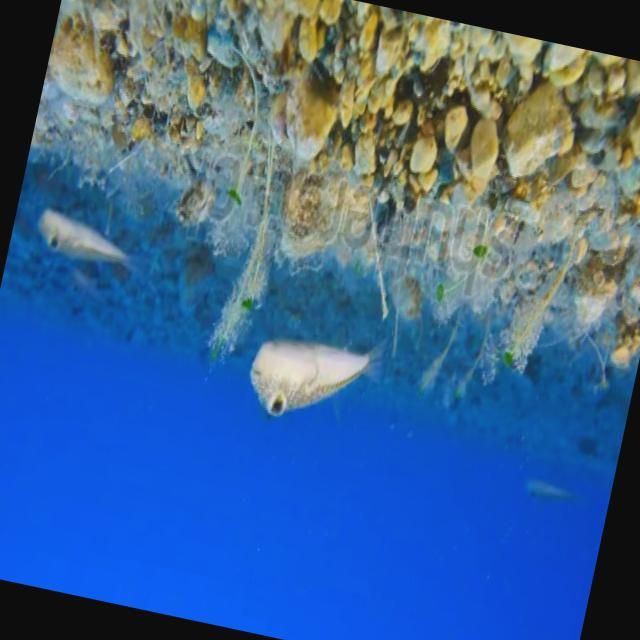Balon Baligi: (240, 310, 391, 441), (29, 200, 140, 278)
